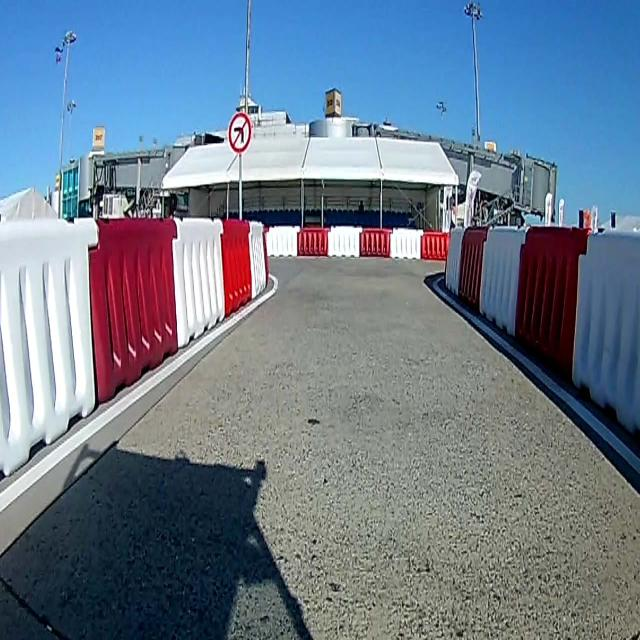soladonulmez: (228, 115, 252, 153)
